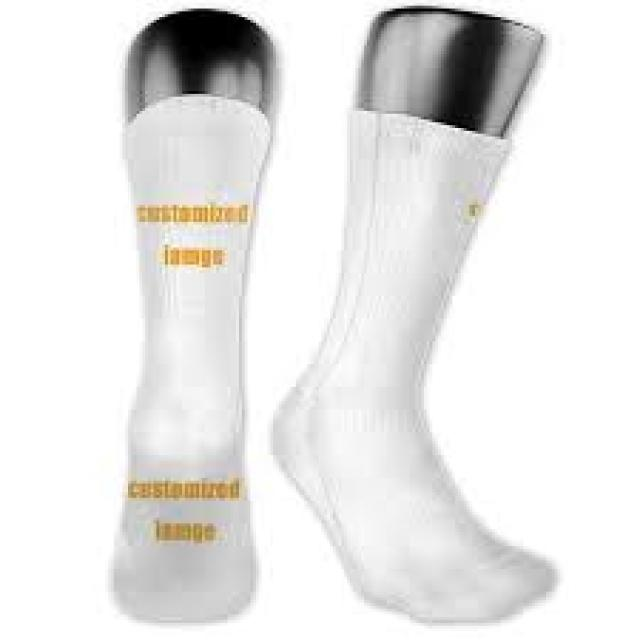sock: (268, 3, 558, 623), (108, 6, 279, 623)
